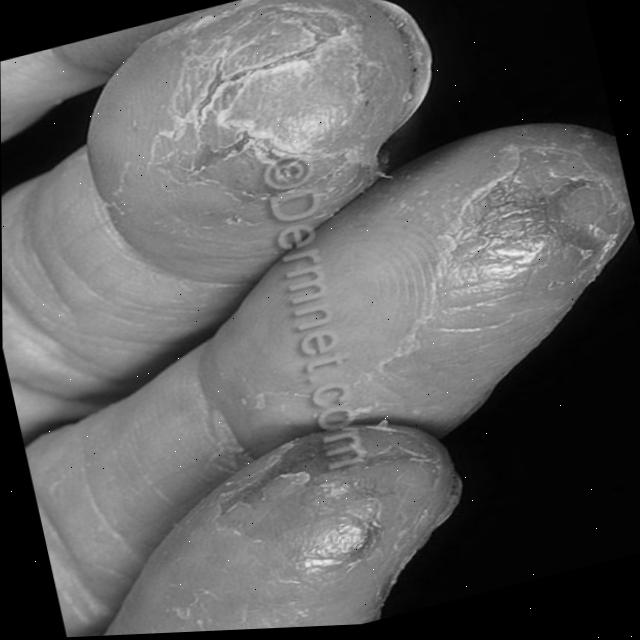Eczema: (335, 156, 640, 424), (183, 0, 390, 186), (267, 431, 431, 581)
